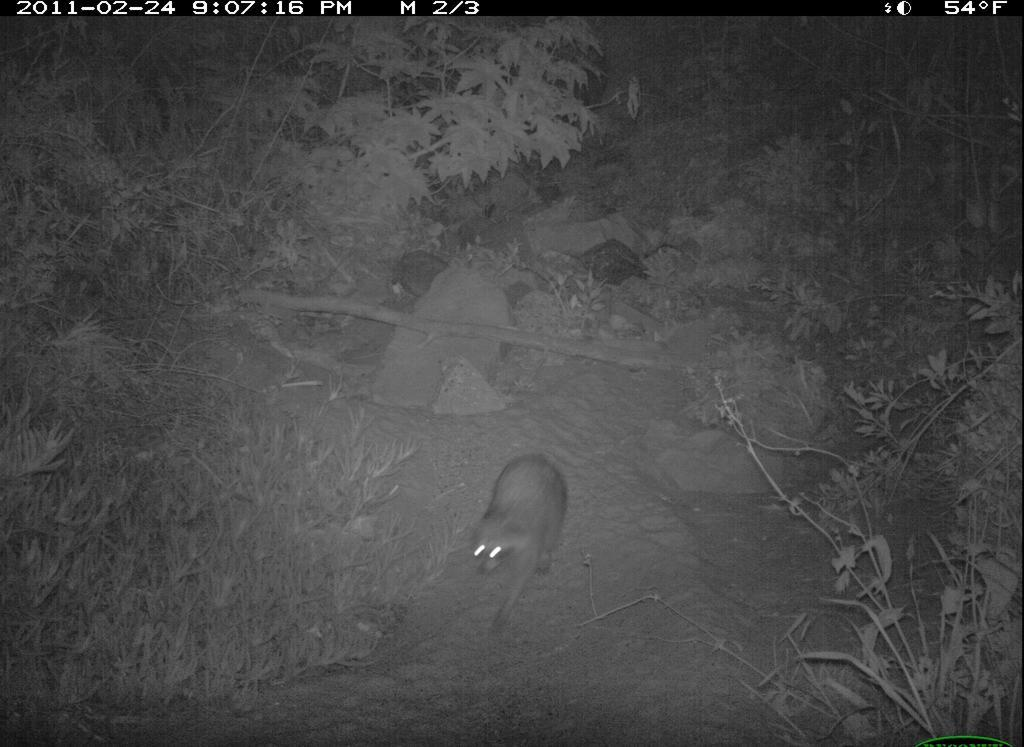raccoon: (437, 441, 589, 649)
